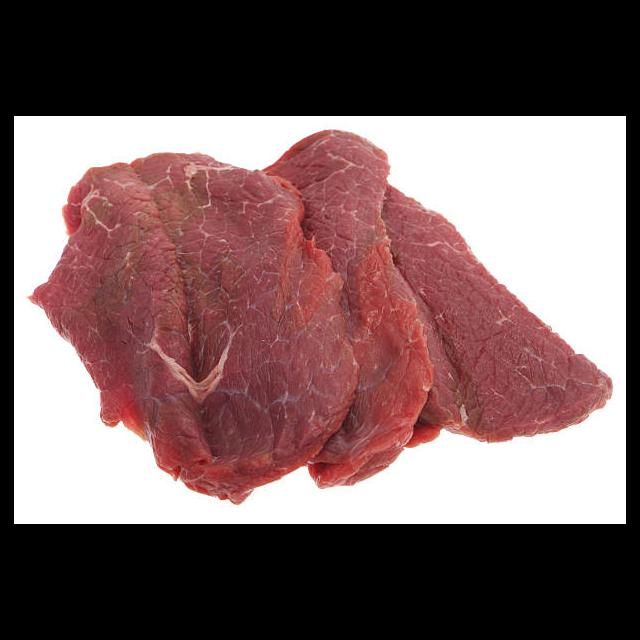beef: (26, 128, 615, 506)
